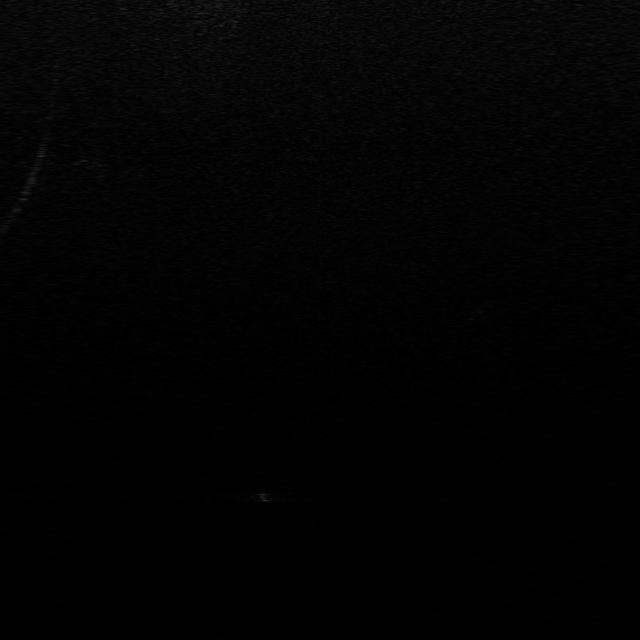ball: (248, 487, 281, 504)
